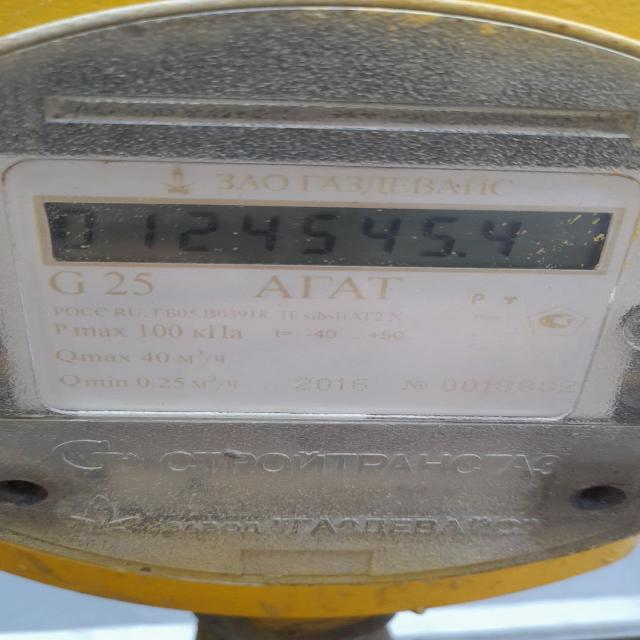.: (455, 249, 470, 259)
0: (54, 207, 98, 256)
1: (131, 211, 162, 254)
2: (177, 210, 220, 257)
4: (475, 220, 530, 259), (237, 211, 283, 255), (358, 213, 402, 257)
5: (292, 212, 344, 257), (418, 213, 462, 262)
screen: (44, 204, 602, 272)
